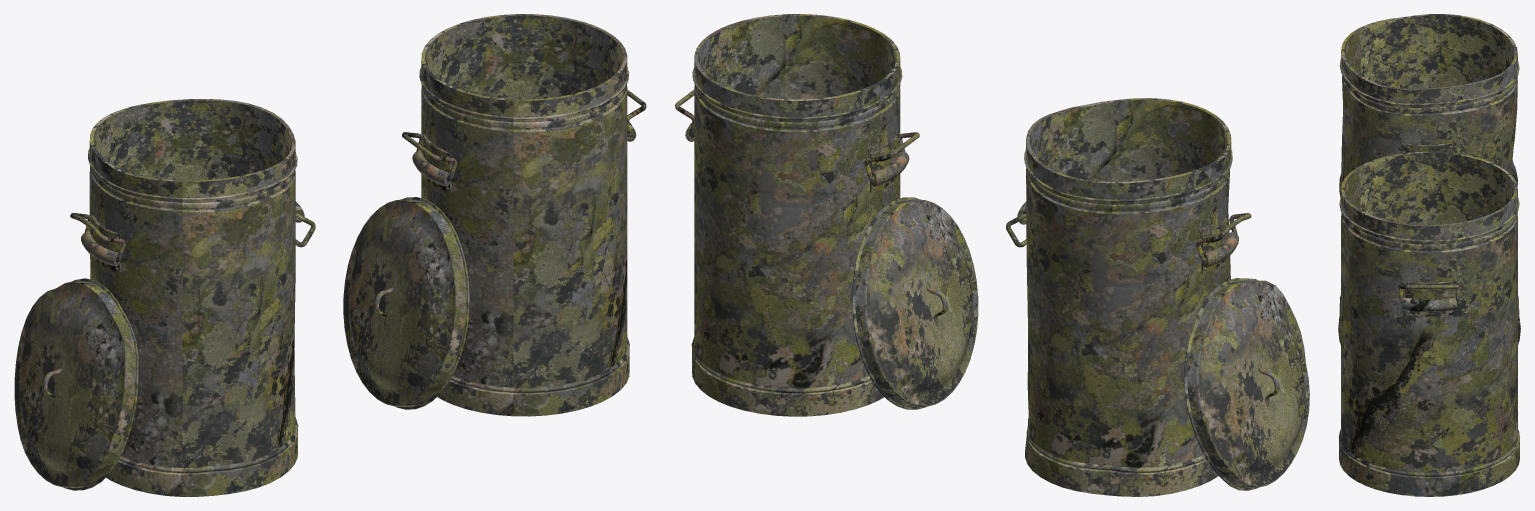
Rendered from metal_trash_can.gltf.
The picture shows the model from 3 angles, left to right: view 1: azimuth 30°, elevation 25°; view 2: azimuth 150°, elevation 25°; view 3: azimuth 270°, elevation 25°; orthographic projection. The views are drawn at different scales.
Visible parts, largest first — view 1: metal_trash_can, metal_trash_can_rust, metal_trash_can_lid, metal_trash_can_rust_lid; view 2: metal_trash_can, metal_trash_can_rust, metal_trash_can_lid, metal_trash_can_rust_lid; view 3: metal_trash_can, metal_trash_can_rust, metal_trash_can_handle_right.
Boxes of the visible parts, left/top/right/bottom form: metal_trash_can: left=412, top=14, right=636, bottom=416; metal_trash_can_rust: left=81, top=99, right=304, bottom=496; metal_trash_can_lid: left=343, top=197, right=469, bottom=409; metal_trash_can_rust_lid: left=14, top=278, right=138, bottom=490; metal_trash_can: left=685, top=14, right=909, bottom=416; metal_trash_can_rust: left=1017, top=98, right=1238, bottom=496; metal_trash_can_lid: left=852, top=197, right=978, bottom=409; metal_trash_can_rust_lid: left=1183, top=278, right=1309, bottom=490; metal_trash_can: left=1338, top=151, right=1519, bottom=496; metal_trash_can_rust: left=1339, top=14, right=1519, bottom=316; metal_trash_can_handle_right: left=1399, top=283, right=1459, bottom=303.
Bounding box in the file's own units: 1.78 × 0.9062 × 0.5563.
